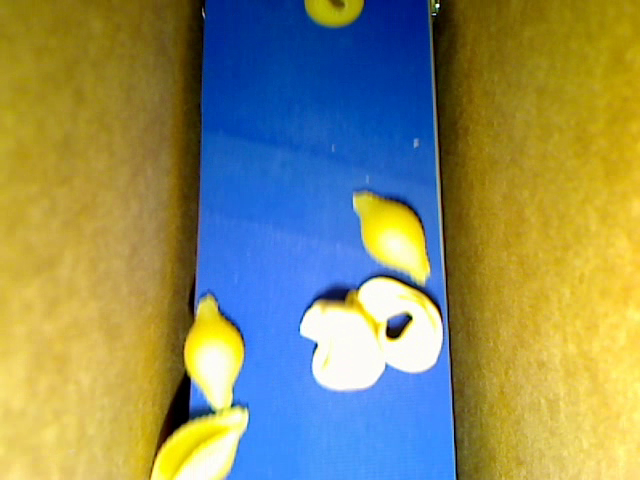shell: (149, 404, 249, 479), (182, 292, 244, 411), (353, 191, 430, 285), (304, 1, 364, 28)
tortellini: (300, 298, 386, 392), (358, 277, 443, 372)
